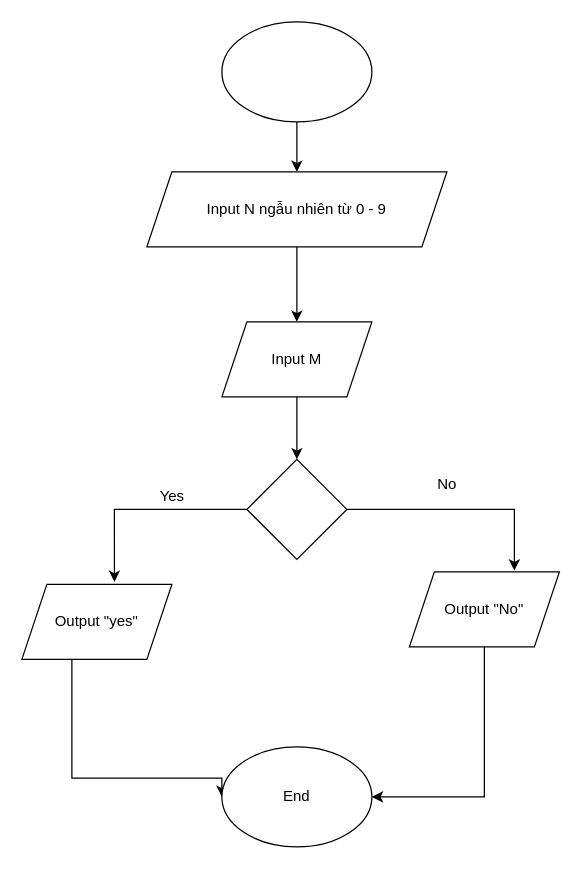
Some shapes in this 581 by 869 pixel diagram are drawn without their labels. The shapes that lost their labels are listed below. From the top down, each one's centre as x and y in pixels, then its label:
(296,71): Begin
(296,508): N==M
